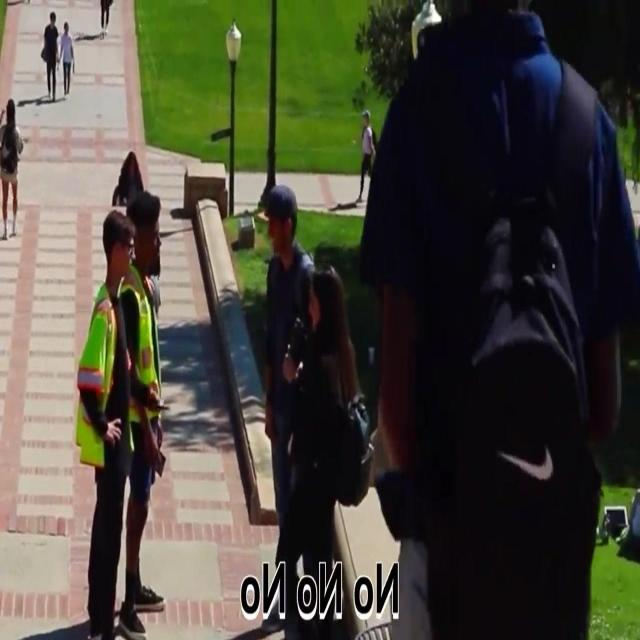Reflective-Jacket: (66, 268, 172, 478)
